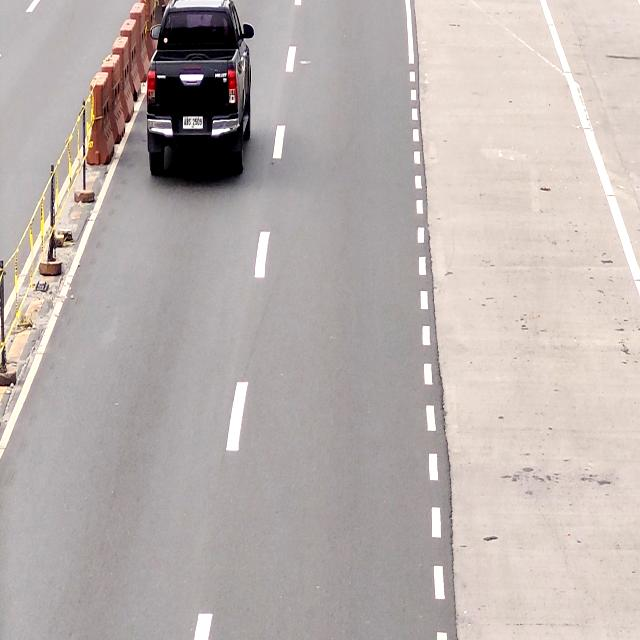Car: (145, 0, 253, 179)
License-Plate: (180, 112, 205, 130)
